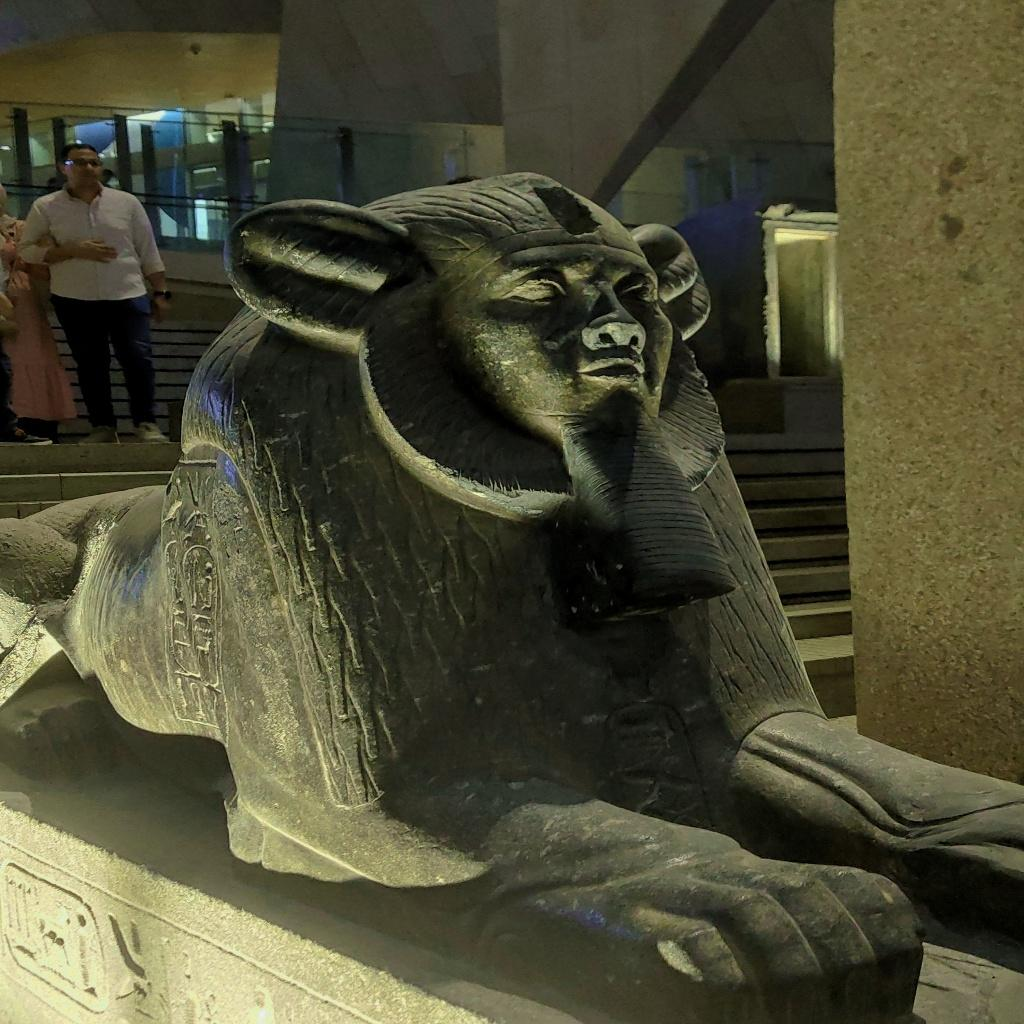Sphinx of Amenmhat III: (7, 168, 1019, 1019)
